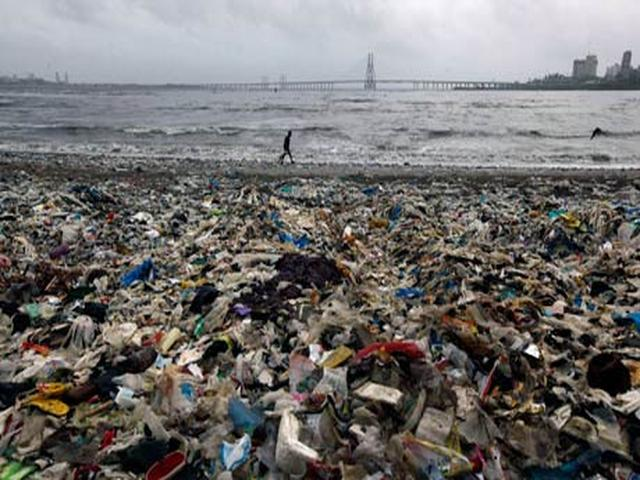garbage: (25, 205, 595, 450)
